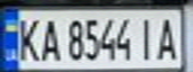4: (115, 14, 136, 62), (100, 15, 118, 62)
5: (81, 15, 100, 61)
8: (63, 15, 84, 62)
A: (154, 14, 181, 62), (36, 15, 63, 62)
I: (136, 15, 157, 62)
K: (12, 15, 42, 62)
